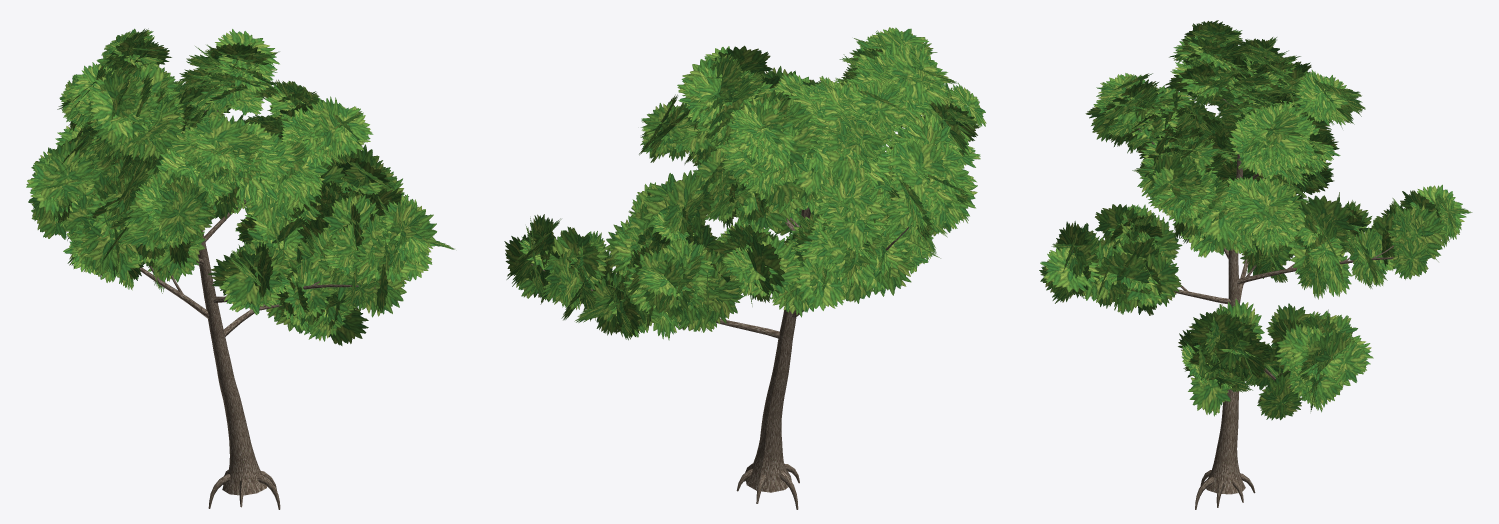
File: arvore_bl_a.glb
3 renders of one model, left to right at view 1: azimuth 30°, elevation 25°; view 2: azimuth 150°, elevation 25°; view 3: azimuth 270°, elevation 25°, orthographic. The views are drawn at different scales.
Visible parts, largest first — view 1: arvore_bl_a; view 2: arvore_bl_a; view 3: arvore_bl_a.
Part boxes in pixels (x1,y1,x2,y2): arvore_bl_a: (26,28,454,509); arvore_bl_a: (504,27,986,509); arvore_bl_a: (1039,20,1472,509).
Size of the model in its own units: 10.76 by 11.19 by 10.67.
Materials: 2 (2 with a texture image).
